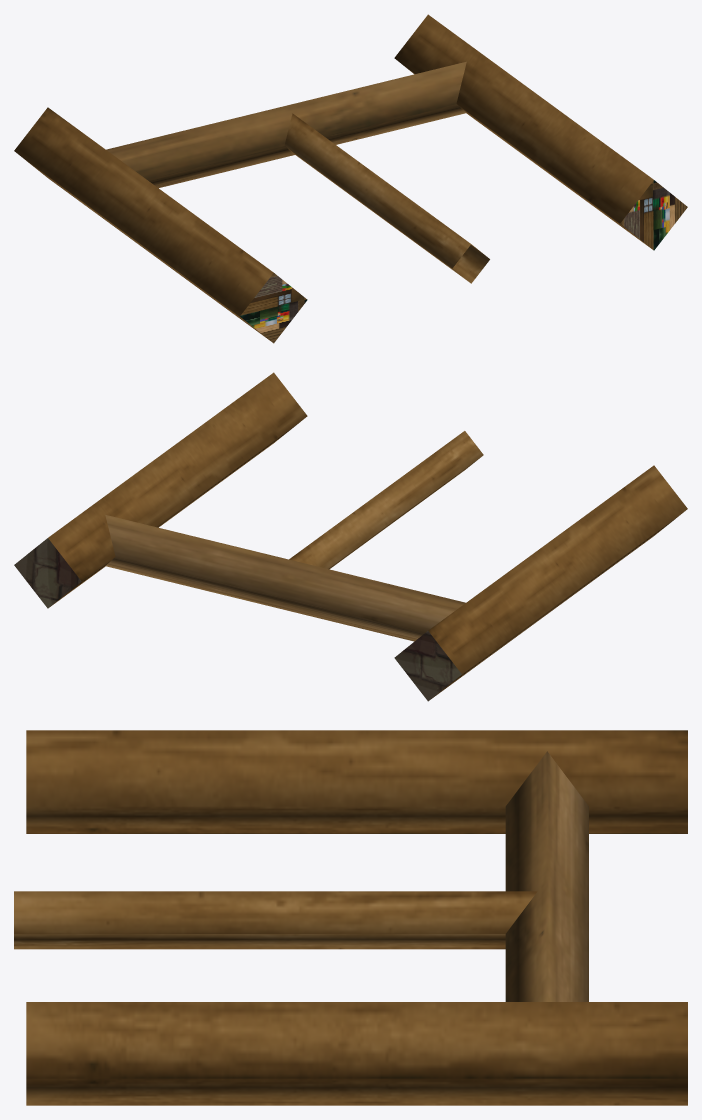
The model's file is Fencex1.fbx.
3 views of the same model, one above another, from view 1: azimuth 30°, elevation 25°; view 2: azimuth 150°, elevation 25°; view 3: azimuth 270°, elevation 25° (orthographic). The views are drawn at different scales.
Visible parts, largest first — view 1: Fencex1; view 2: Fencex1; view 3: Fencex1.
Part boxes in pixels (x1,y1,x2,y2): Fencex1: (14,14,687,343); Fencex1: (14,372,687,701); Fencex1: (14,730,687,1105).
Bounding box in the file's own units: 17.24 × 2.61 × 15.34.
